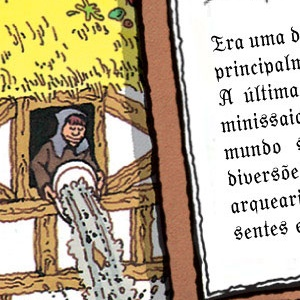Wizard Whitebeard: (65, 112, 133, 188)
